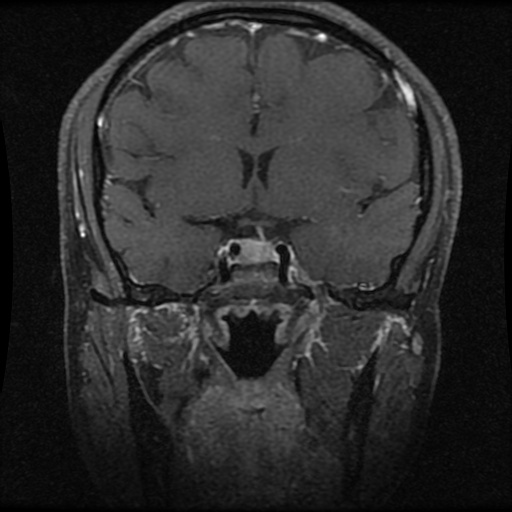pituitary: (239, 241, 277, 262)
